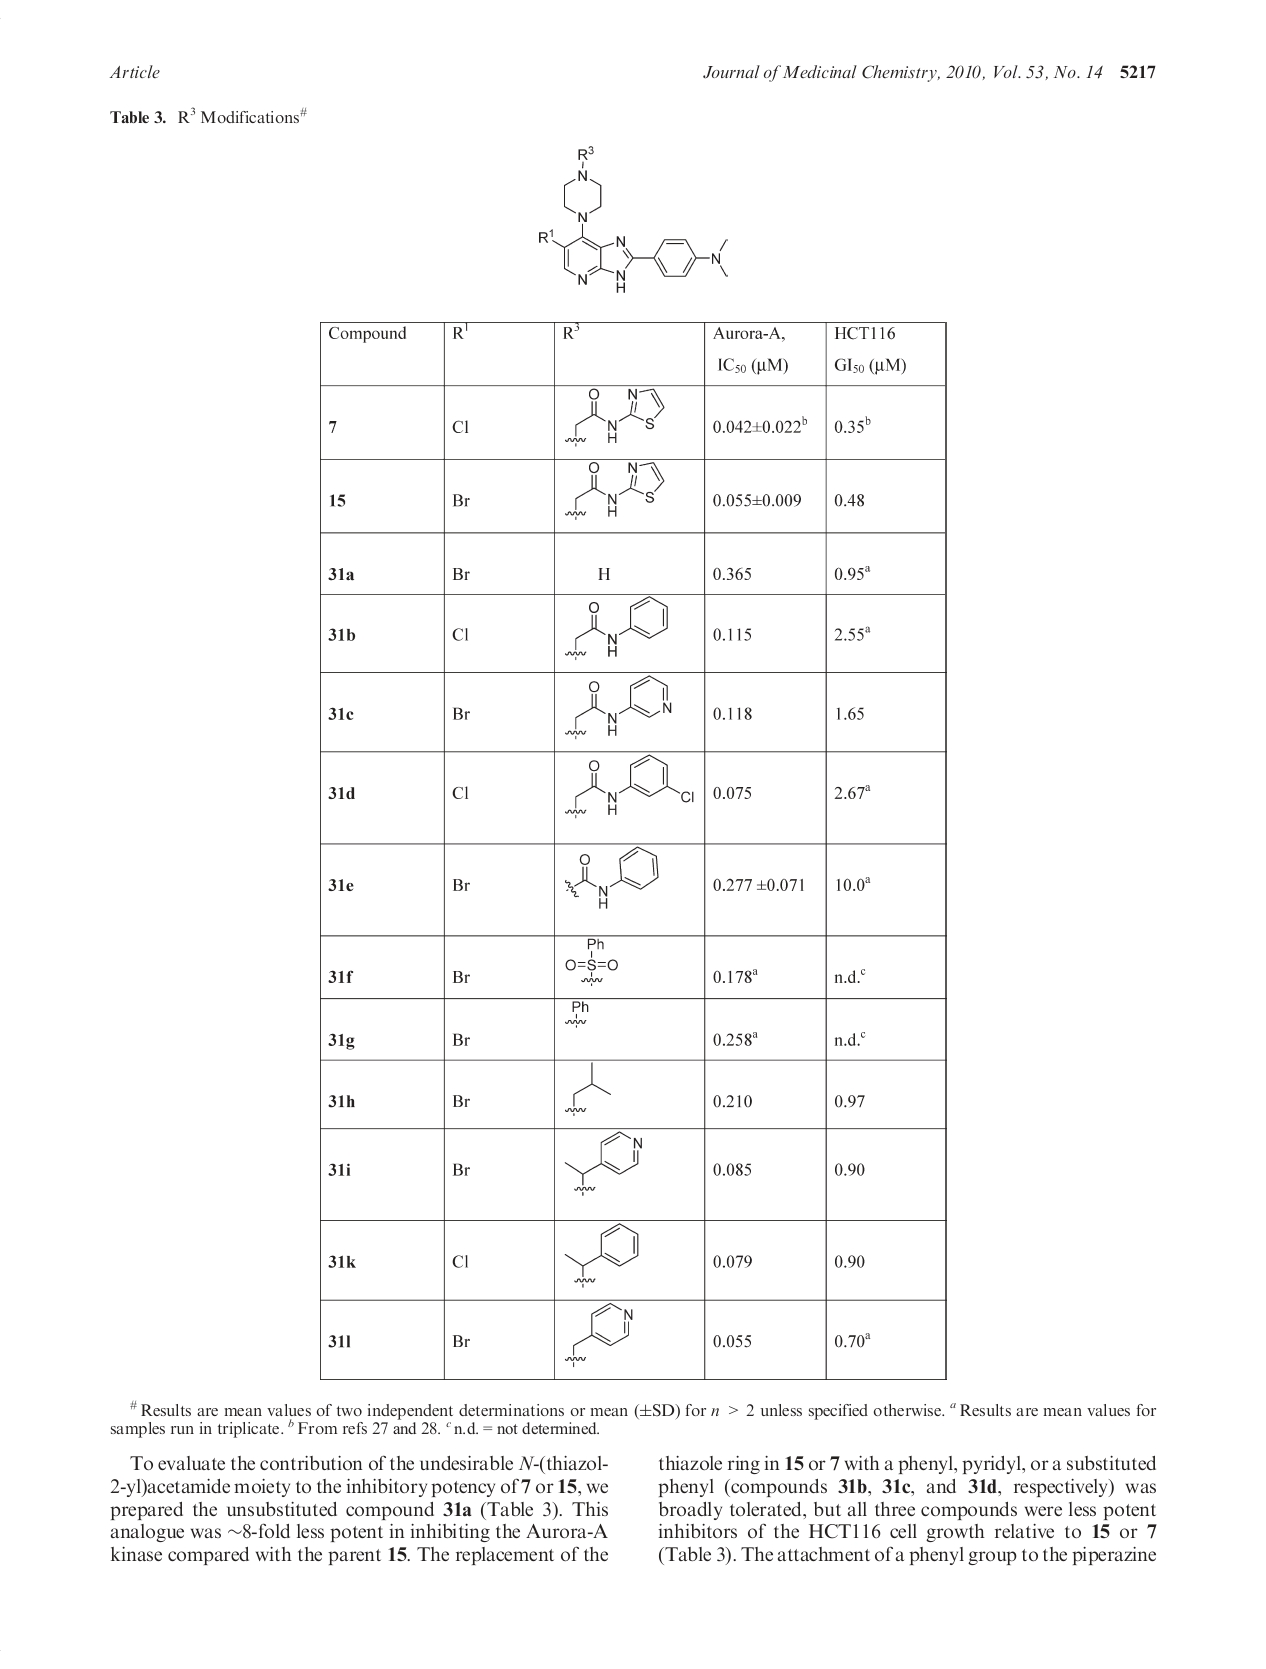exist_molecular: (540, 144, 730, 293), (563, 751, 697, 819), (561, 674, 672, 739), (564, 596, 670, 660), (564, 461, 669, 523), (564, 846, 662, 910), (564, 387, 668, 446), (563, 1222, 642, 1291), (563, 1130, 644, 1197), (561, 1302, 637, 1371), (564, 1063, 613, 1116), (564, 938, 618, 985)
